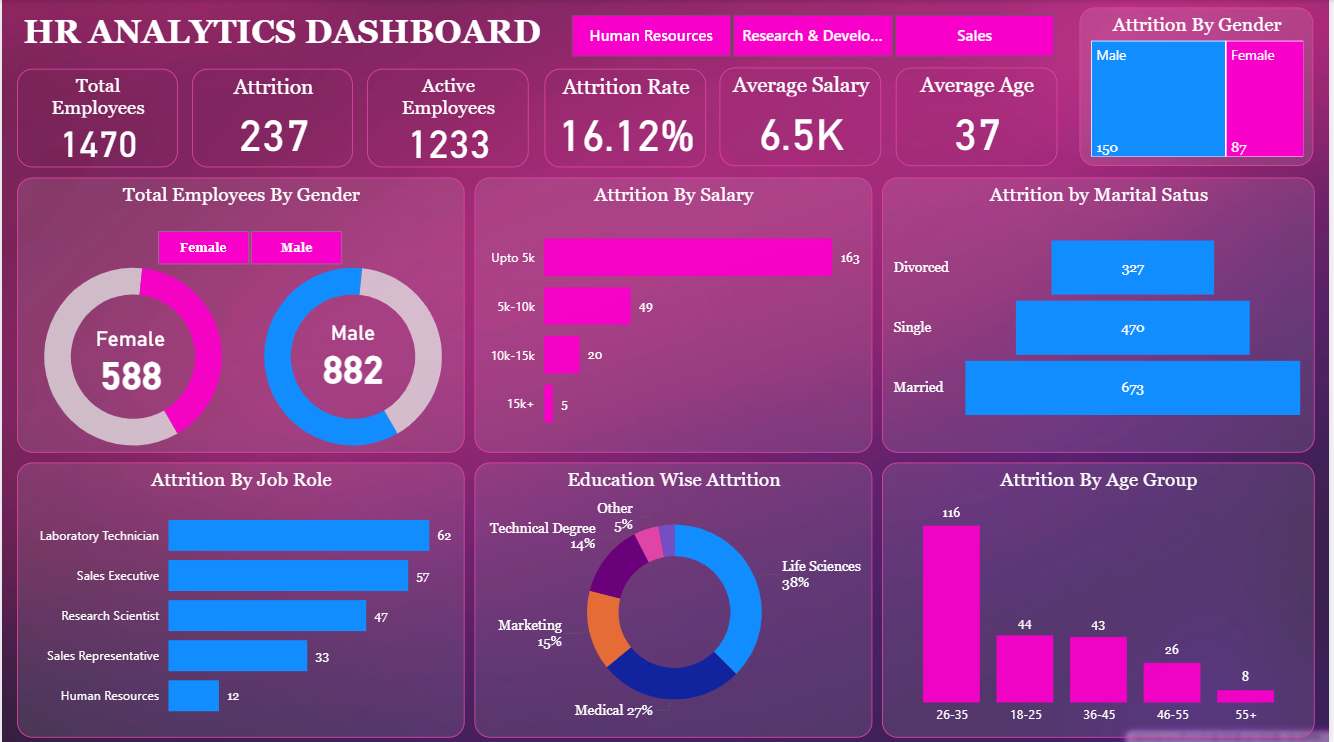

Layout of this report page (visuals, bound fields, positions):
{"tool":"powerbi","page":{"name":"Dashboard","canvas":[1280,720],"ordinal":6},"visuals":[{"type":"shape","title":"Total Employees By Gender","box":[14.5,171.3,431.9,265.4],"z":0,"group":"g2"},{"type":"card","title":"Total Employees","fields":{"Values":["CountNonNull(public employee.empid)"]},"box":[15,66.3,155,95],"z":1000},{"type":"card","title":"Attrition","fields":{"Values":["Sum(public employee.attrition_count)"]},"box":[183.1,66.3,155.6,95.3],"z":2000},{"type":"card","title":"Attrition Rate","fields":{"Values":["public employee.attrition_rate"]},"box":[523.6,66.4,155.6,95.3],"z":3000},{"type":"card","title":"Average Age","fields":{"Values":["Avg(public employee.age)"]},"box":[862.6,65.1,155.6,95.3],"z":4000},{"type":"card","title":"Average Salary","fields":{"Values":["Avg(public employee.monthlyincome)"]},"box":[692.5,65.1,155.6,95.3],"z":5000},{"type":"card","title":"Active Employees","fields":{"Values":["public employee.active_employees"]},"box":[352.3,66.4,155.6,95.3],"z":6000},{"type":"donutChart","title":"Education Wise Attrition","fields":{"Category":["public employee.educationfield"],"Y":["Sum(public employee.attrition_count)"]},"box":[456,446.4,383.6,265.4],"z":7000},{"type":"columnChart","title":"Attrition By Age Group","fields":{"Category":["public employee.agegroup"],"Y":["Sum(public employee.attrition_count)"]},"box":[849.3,446.4,417.4,265.4],"z":8000},{"type":"barChart","title":"Attrition By Salary","fields":{"Category":["public employee.salaryslab"],"Y":["Sum(public employee.attrition_count)"]},"box":[456,171.3,383.6,265.4],"z":9000},{"type":"barChart","title":"Attrition By Job Role","fields":{"Category":["public employee.jobrole"],"Y":["Sum(public employee.attrition_count)"]},"box":[14.5,446.4,431.9,265.4],"z":10000},{"type":"treemap","title":"Attrition By Gender","fields":{"Group":["public employee.gender"],"Values":["Sum(public employee.attrition_count)"]},"box":[1039.4,7.2,225.5,153.2],"z":11000},{"type":"slicer","fields":{"Values":["public employee.department"]},"box":[523.4,7.2,516.2,54.3],"z":12000},{"type":"textbox","box":[15.7,7.2,535.5,54.3],"z":13000},{"type":"funnel","title":"Attrition by Marital Satus","fields":{"Category":["public employee.maritalstatus"],"Y":["CountNonNull(public employee.attrition_count)"]},"box":[849.3,171.3,417.4,265.4],"z":14000},{"type":"donutChart","title":"Attrition By Age","fields":{"Category":["public employee.gender"],"Y":["Sum(public employee.employeecount)"]},"box":[14.5,230.4,224.4,228],"z":15000,"group":"g1"},{"type":"donutChart","title":"Attrition By Age","fields":{"Category":["public employee.gender"],"Y":["Sum(public employee.employeecount)"]},"box":[226.8,230.4,224.4,228],"z":16000,"group":"g1"},{"type":"card","title":"Male","fields":{"Values":["public employee.malecount"]},"box":[294.4,308.8,89.3,67],"z":17000},{"type":"card","title":"Female","fields":{"Values":["public employee.femalecount"]},"box":[79.6,314.9,89.3,67],"z":18000},{"type":"slicer","fields":{"Values":["public employee.gender"]},"box":[124.3,215.9,228,45.8],"z":19000,"group":"g1"},{"type":"group","id":"g1","title":"Group 1","box":[14.5,215.9,436.7,242.5],"z":19001,"group":"g2"},{"type":"group","id":"g2","title":"Group 2","box":[14.5,171.3,436.7,287.1],"z":19002}]}

Visuals, with their boxes in screenshot pixels (x1, y1, x2, y2), scaled from the page's 1280x720 canvas onto the 1334x742 screenshot:
"Total Employees By Gender" shape: crop(15, 177, 465, 450)
"Total Employees" card: crop(16, 68, 177, 166)
"Attrition" card: crop(191, 68, 353, 167)
"Attrition Rate" card: crop(546, 68, 708, 167)
"Average Age" card: crop(899, 67, 1061, 165)
"Average Salary" card: crop(722, 67, 884, 165)
"Active Employees" card: crop(367, 68, 529, 167)
"Education Wise Attrition" donutChart: crop(475, 460, 875, 734)
"Attrition By Age Group" columnChart: crop(885, 460, 1320, 734)
"Attrition By Salary" barChart: crop(475, 177, 875, 450)
"Attrition By Job Role" barChart: crop(15, 460, 465, 734)
"Attrition By Gender" treemap: crop(1083, 7, 1318, 165)
slicer - public employee.department: crop(545, 7, 1083, 63)
textbox: crop(16, 7, 574, 63)
"Attrition by Marital Satus" funnel: crop(885, 177, 1320, 450)
"Attrition By Age" donutChart: crop(15, 237, 249, 472)
"Attrition By Age" donutChart: crop(236, 237, 470, 472)
"Male" card: crop(307, 318, 400, 387)
"Female" card: crop(83, 325, 176, 394)
slicer - public employee.gender: crop(130, 222, 367, 270)
"Group 1" group: crop(15, 222, 470, 472)
"Group 2" group: crop(15, 177, 470, 472)
